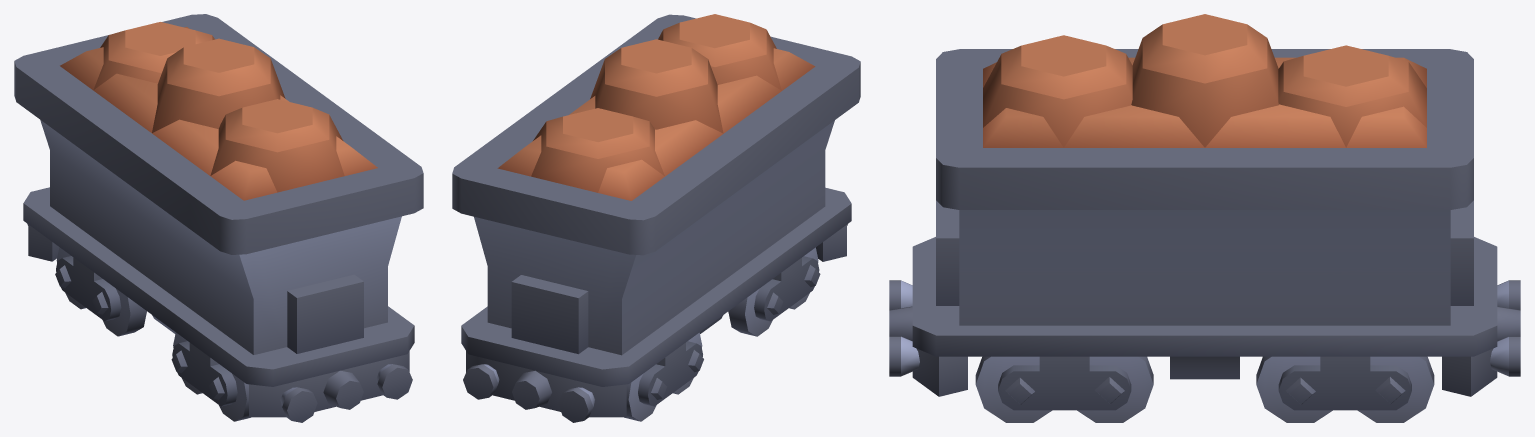
The model's file is train-carriage-dirt.glb.
3 renders of one model, left to right at view 1: azimuth 30°, elevation 25°; view 2: azimuth 150°, elevation 25°; view 3: azimuth 270°, elevation 25°, orthographic. The views are drawn at different scales.
Visible parts, largest first — view 1: train-carriage-dirt, cargo, wheels-back, wheels-front; view 2: train-carriage-dirt, cargo, wheels-front, wheels-back; view 3: train-carriage-dirt, cargo, wheels-front, wheels-back.
Boxes of the visible parts, x1=… form: train-carriage-dirt: x1=14, y1=14, x2=423, y2=422; cargo: x1=60, y1=22, x2=377, y2=200; wheels-back: x1=55, y1=247, x2=146, y2=336; wheels-front: x1=171, y1=332, x2=250, y2=421; train-carriage-dirt: x1=452, y1=14, x2=860, y2=422; cargo: x1=497, y1=14, x2=815, y2=200; wheels-front: x1=728, y1=247, x2=820, y2=336; wheels-back: x1=624, y1=332, x2=703, y2=421; train-carriage-dirt: x1=889, y1=49, x2=1520, y2=396; cargo: x1=983, y1=14, x2=1426, y2=147; wheels-front: x1=975, y1=356, x2=1153, y2=422; wheels-back: x1=1256, y1=356, x2=1434, y2=422.
Bounding box in the file's own units: 1.2 × 1.65 × 2.7.
